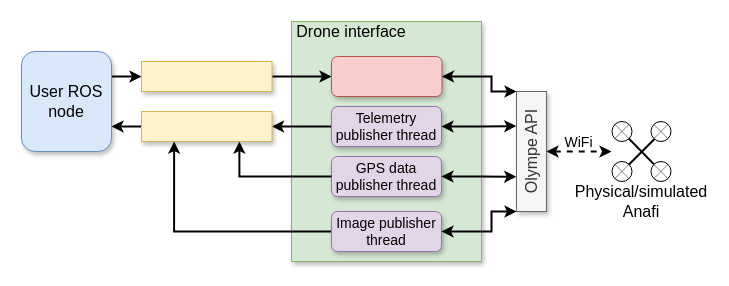
The diagram is 729 pixels wide and 286 high, and some of its shapes have lost their labels. Each missing label, with the centre of its shape:
"Command listener thread" belongs at pixel 387 78.
"Command topics" belongs at pixel 207 77.
"Output topics" belongs at pixel 207 127.
